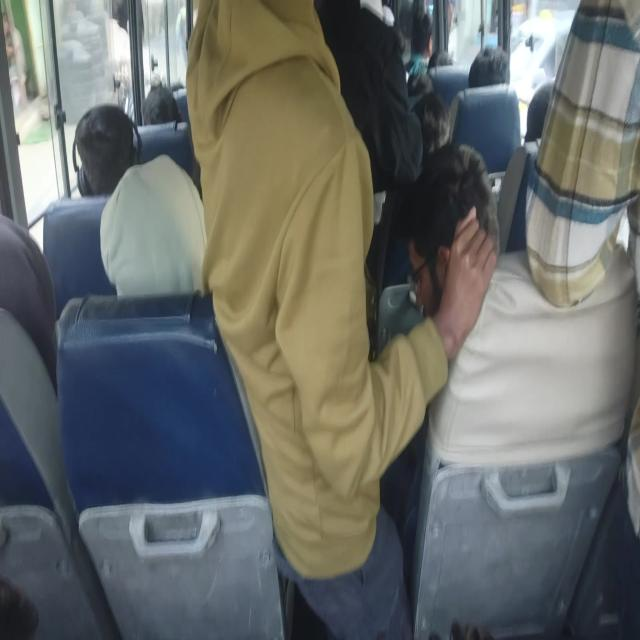person: (184, 1, 500, 637), (404, 142, 500, 360), (99, 152, 208, 298), (0, 213, 58, 396), (72, 102, 140, 197), (411, 89, 451, 157), (468, 44, 510, 88)
